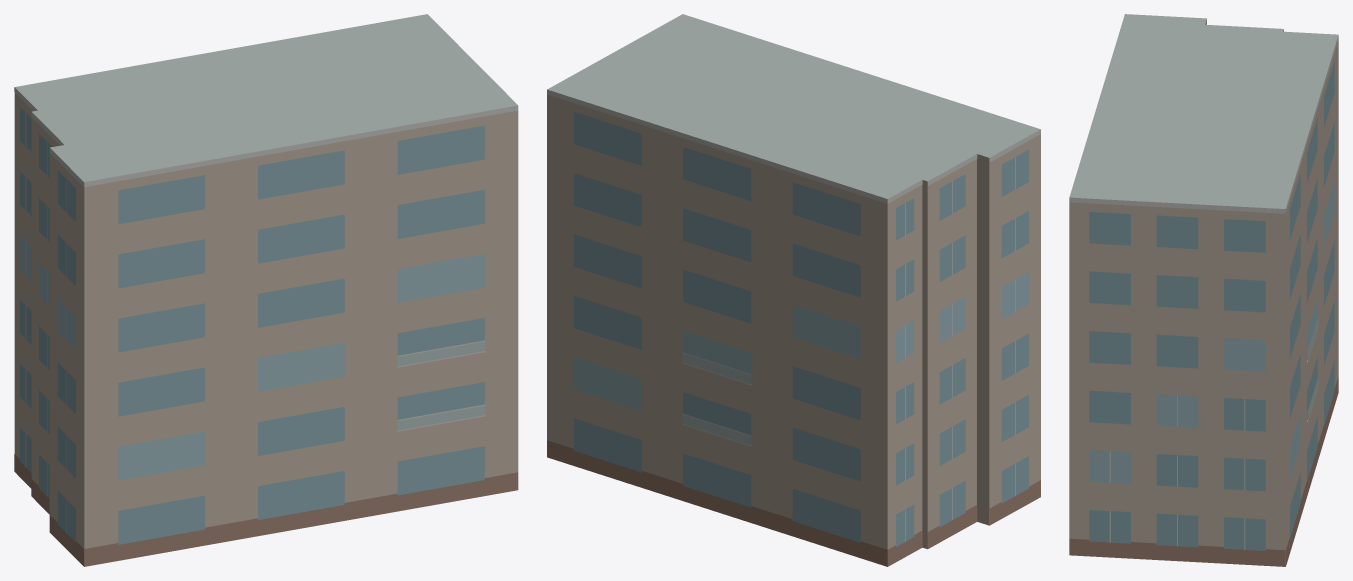
File: survey-upis-32960283.glb
The picture shows the model from 3 angles, left to right: view 1: azimuth 30°, elevation 25°; view 2: azimuth 150°, elevation 25°; view 3: azimuth 270°, elevation 25°; orthographic projection. The views are drawn at different scales.
Visible parts, largest first — view 1: survey-upis-32960283.tmp; view 2: survey-upis-32960283.tmp; view 3: survey-upis-32960283.tmp.
Part boxes in pixels (bbox=[...]): survey-upis-32960283.tmp: bbox=[14, 14, 518, 566]; survey-upis-32960283.tmp: bbox=[547, 14, 1040, 566]; survey-upis-32960283.tmp: bbox=[1069, 14, 1338, 566].
Size of the model in its own units: 21.77 by 18.6 by 12.7.
